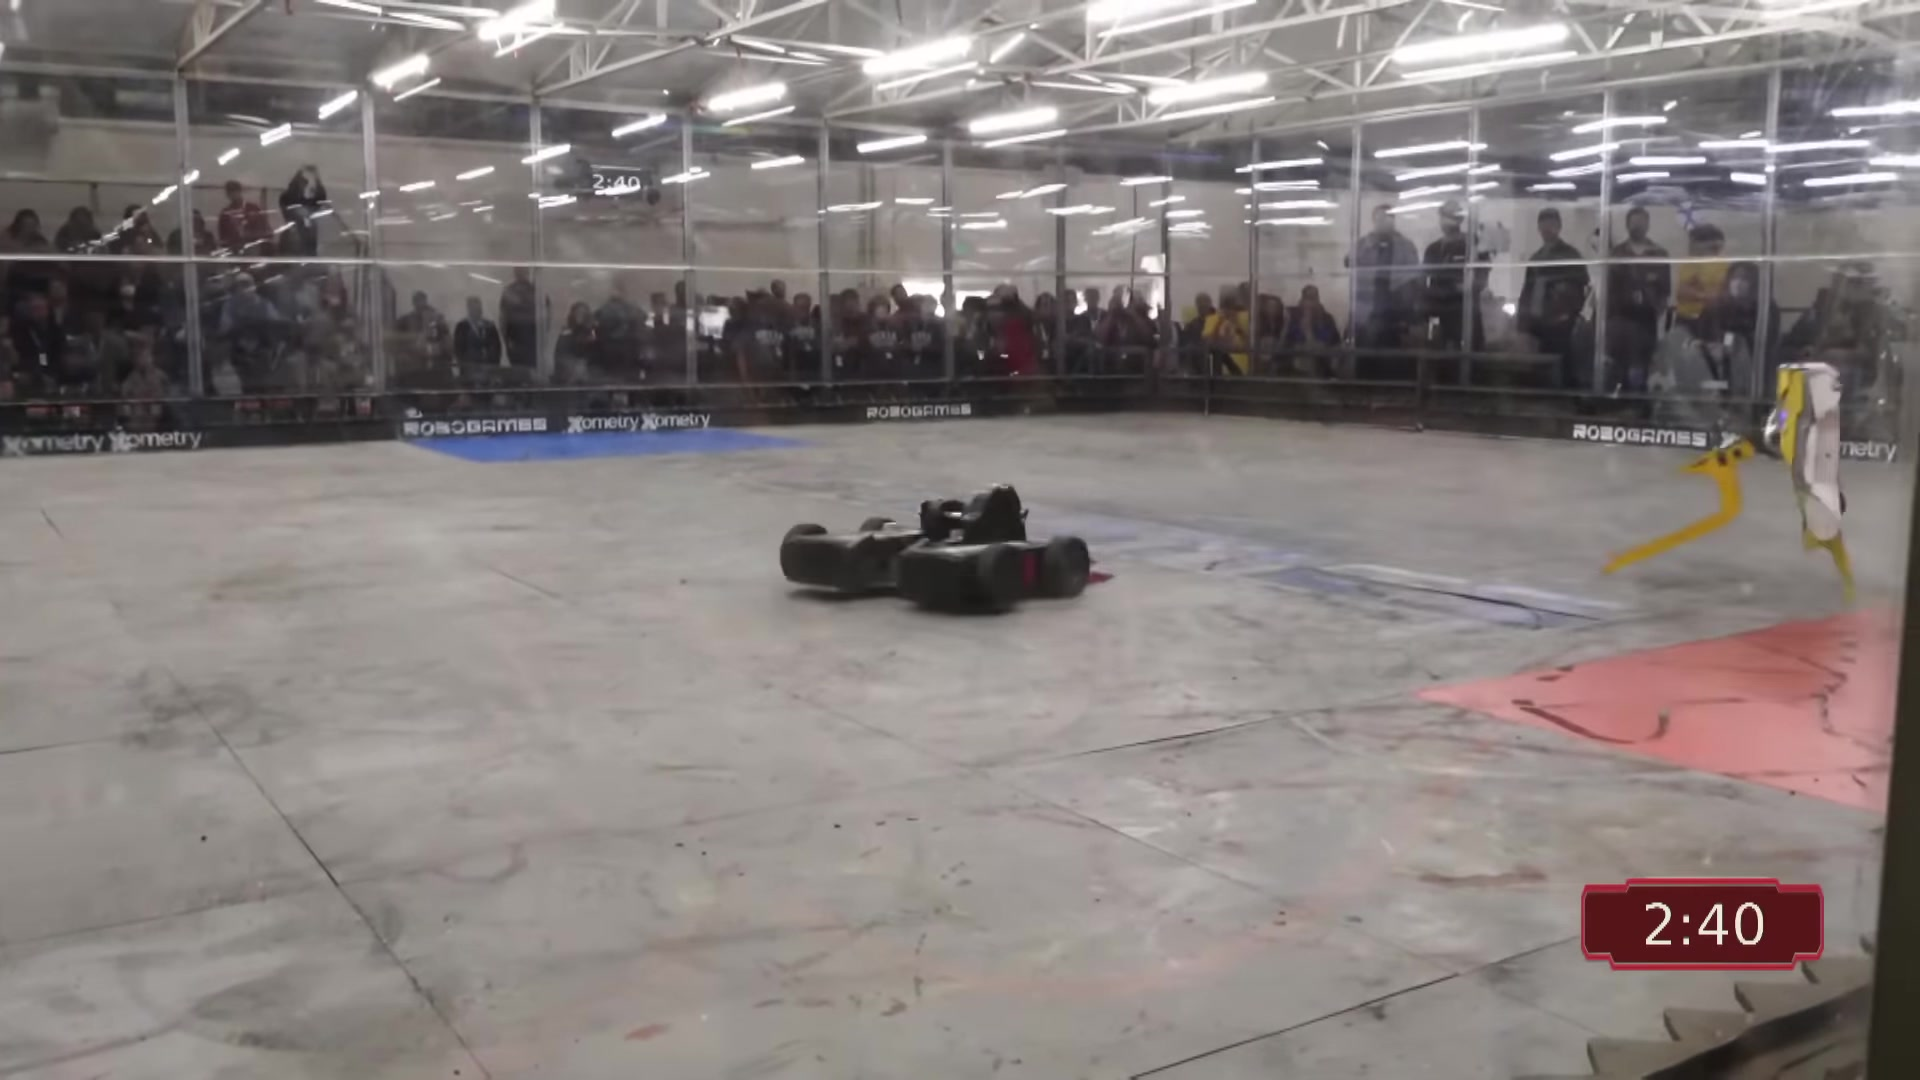combatbot: (1604, 363, 1838, 574), (789, 488, 1117, 615)
